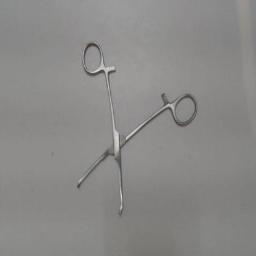Allis Tissue Forceps: (70, 35, 202, 221)
